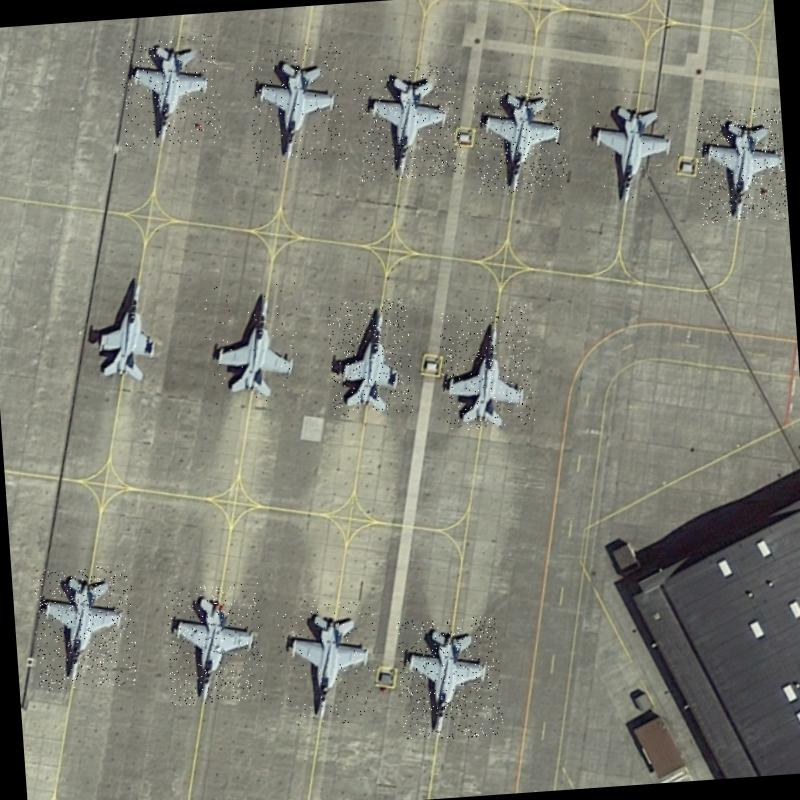A16: (274, 595, 380, 727), (396, 614, 504, 742), (31, 563, 138, 691), (352, 64, 464, 182), (245, 41, 347, 165), (164, 582, 266, 706), (436, 304, 535, 431), (202, 281, 302, 404), (582, 90, 684, 210), (118, 33, 222, 149), (471, 77, 569, 196), (694, 106, 788, 224), (326, 298, 414, 419), (82, 268, 168, 388)
